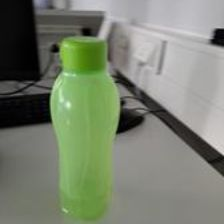bottle: (50, 32, 122, 219)
